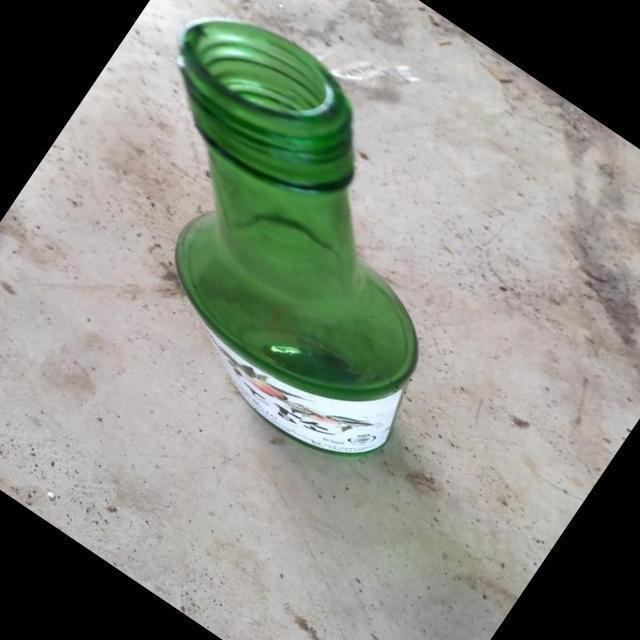Glass: (175, 16, 419, 456)
